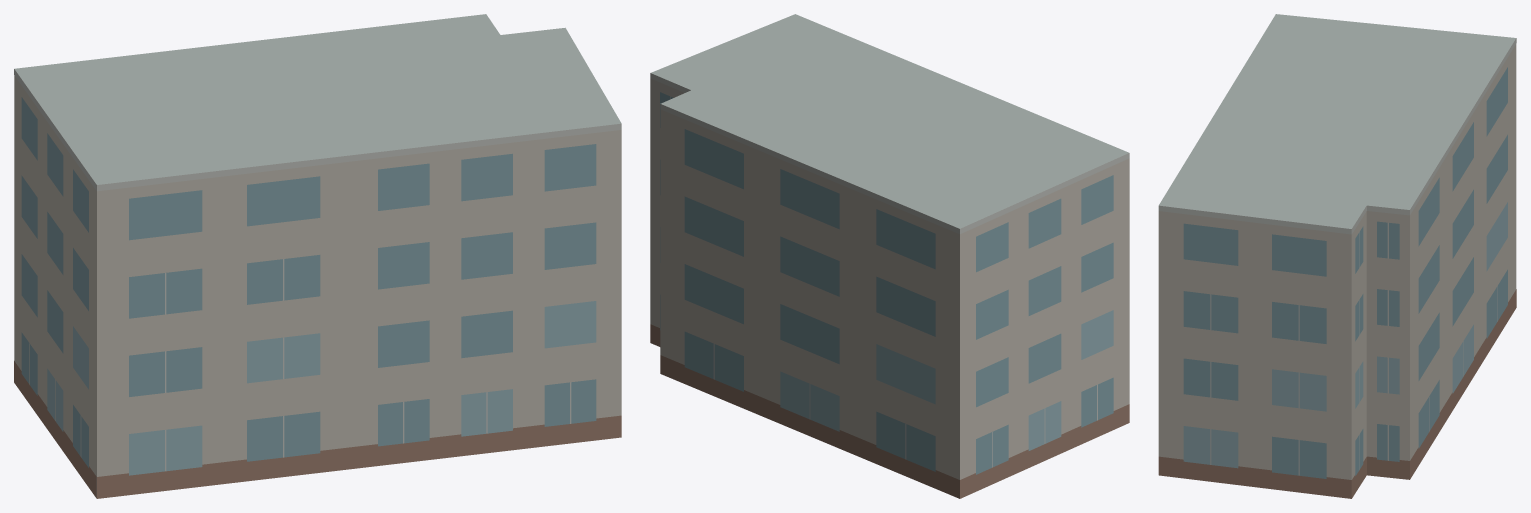
File: survey-upis-33032747.glb
The picture shows the model from 3 angles, left to right: view 1: azimuth 30°, elevation 25°; view 2: azimuth 150°, elevation 25°; view 3: azimuth 270°, elevation 25°; orthographic projection. The views are drawn at different scales.
Visible parts, largest first — view 1: survey-upis-33032747.tmp; view 2: survey-upis-33032747.tmp; view 3: survey-upis-33032747.tmp.
Boxes of the visible parts, bbox=[...] form: survey-upis-33032747.tmp: bbox=[14, 14, 621, 498]; survey-upis-33032747.tmp: bbox=[650, 14, 1129, 498]; survey-upis-33032747.tmp: bbox=[1158, 14, 1516, 498].
Bounding box in the file's own units: 20.87 × 12.2 × 14.68.
